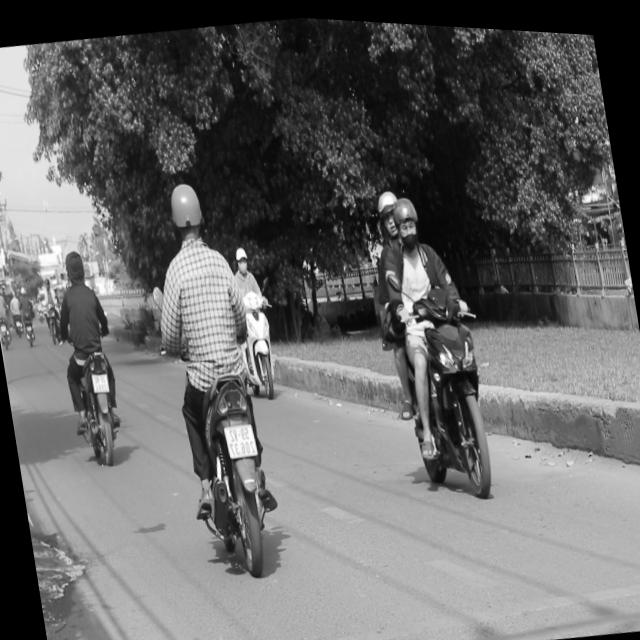helmet: (165, 175, 208, 242), (392, 187, 424, 246), (374, 182, 404, 238), (62, 243, 87, 283)
licenseplate: (140, 171, 290, 577), (359, 174, 504, 503), (46, 240, 132, 468)
nohelmet: (224, 417, 257, 453), (90, 370, 109, 392)
